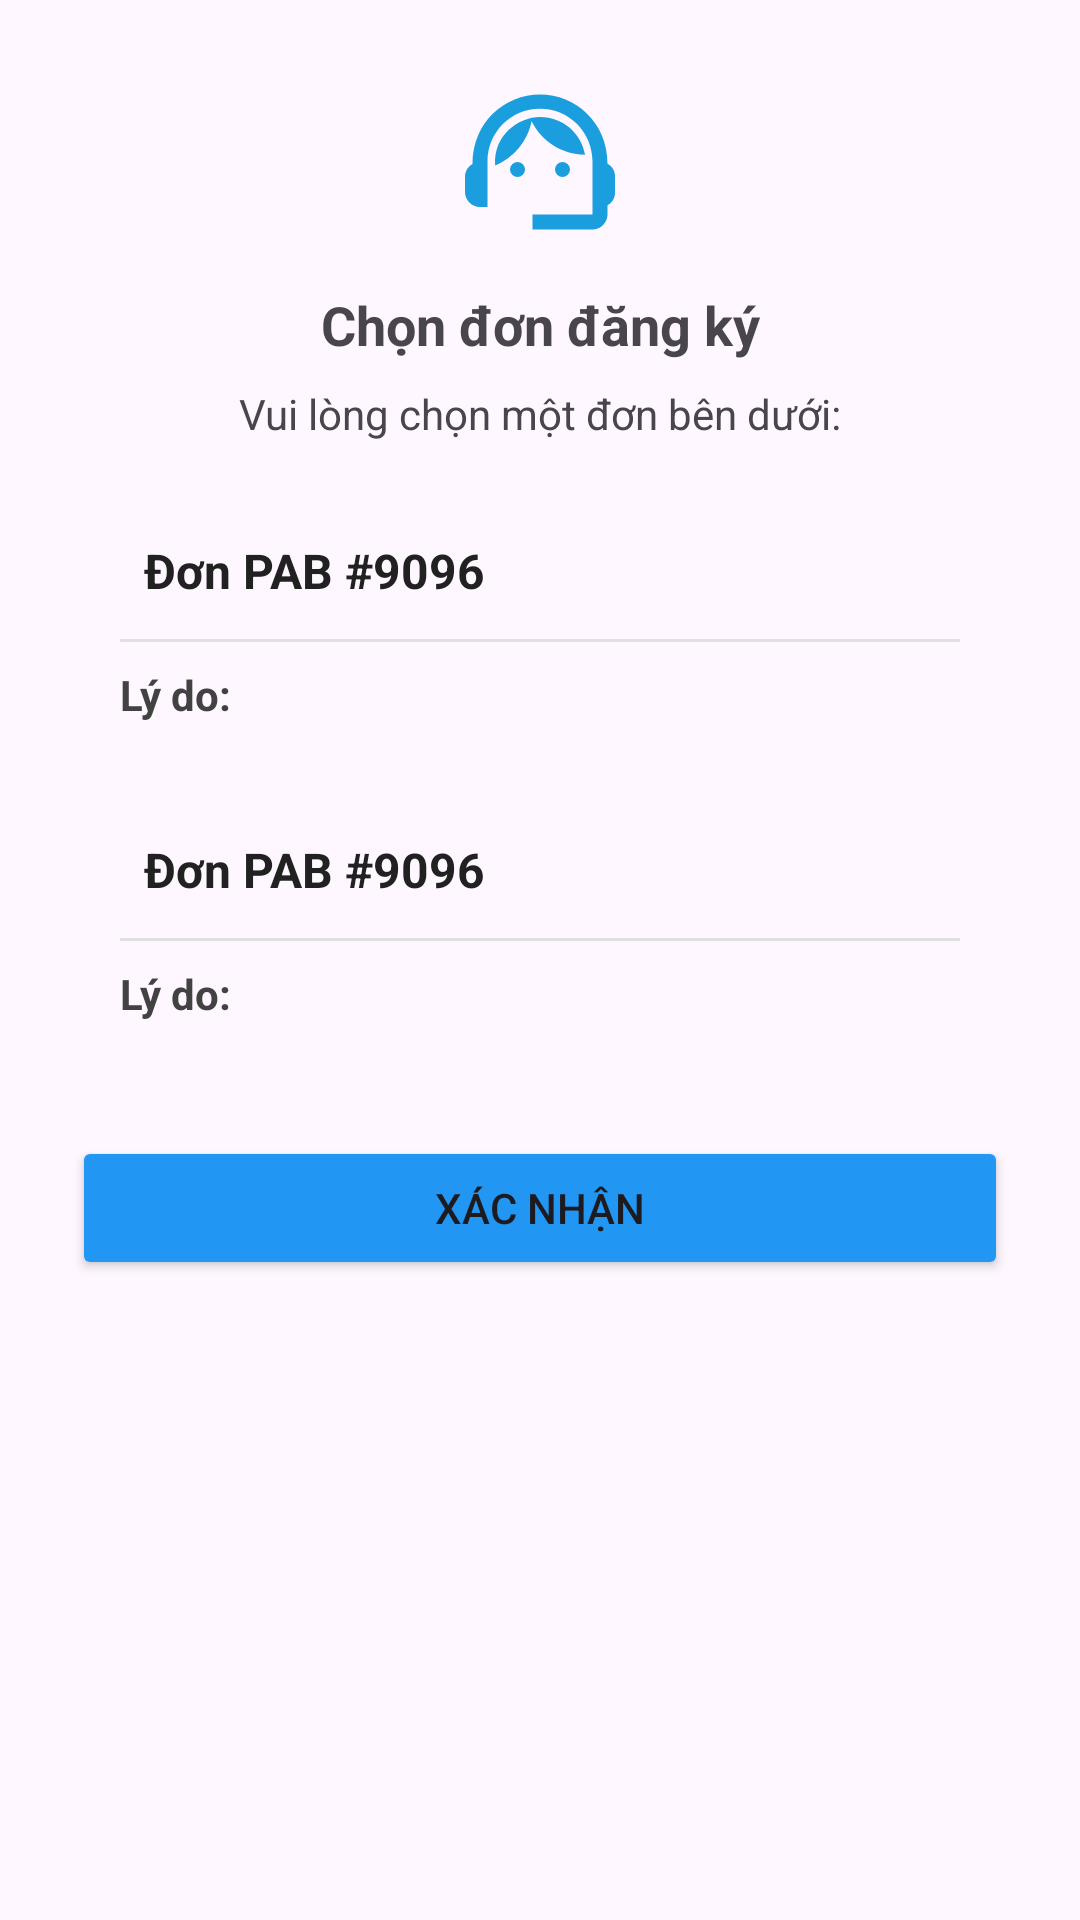

Point at icon controls on the screen. Image size 1080 x 1920, points as [x,y].
support agent: [540,162]
